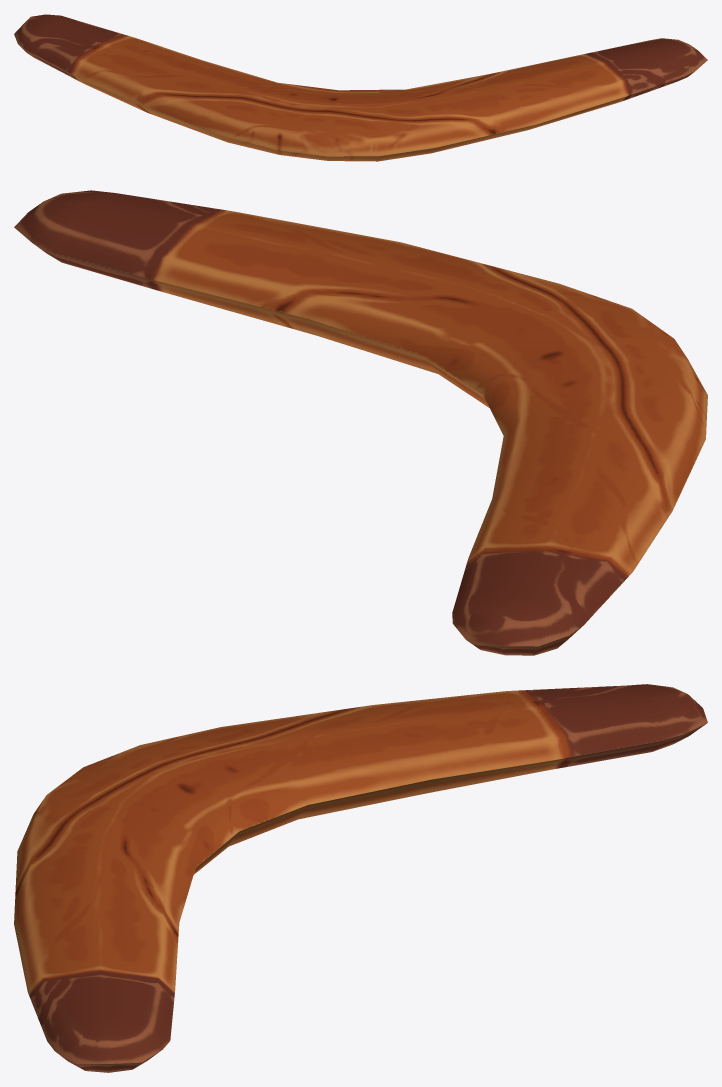
File: Boomerang_low.fbx
3 renders of one model, top to bottom at view 1: azimuth 30°, elevation 25°; view 2: azimuth 150°, elevation 25°; view 3: azimuth 270°, elevation 25°, orthographic. The views are drawn at different scales.
Visible parts, largest first — view 1: Boomerang_low; view 2: Boomerang_low; view 3: Boomerang_low.
Part boxes in pixels (left/top/right/bottom): Boomerang_low: left=14, top=14, right=707, bottom=161; Boomerang_low: left=14, top=190, right=707, bottom=655; Boomerang_low: left=14, top=684, right=707, bottom=1072.
Size of the model in its own units: 191 by 13.97 by 150.
